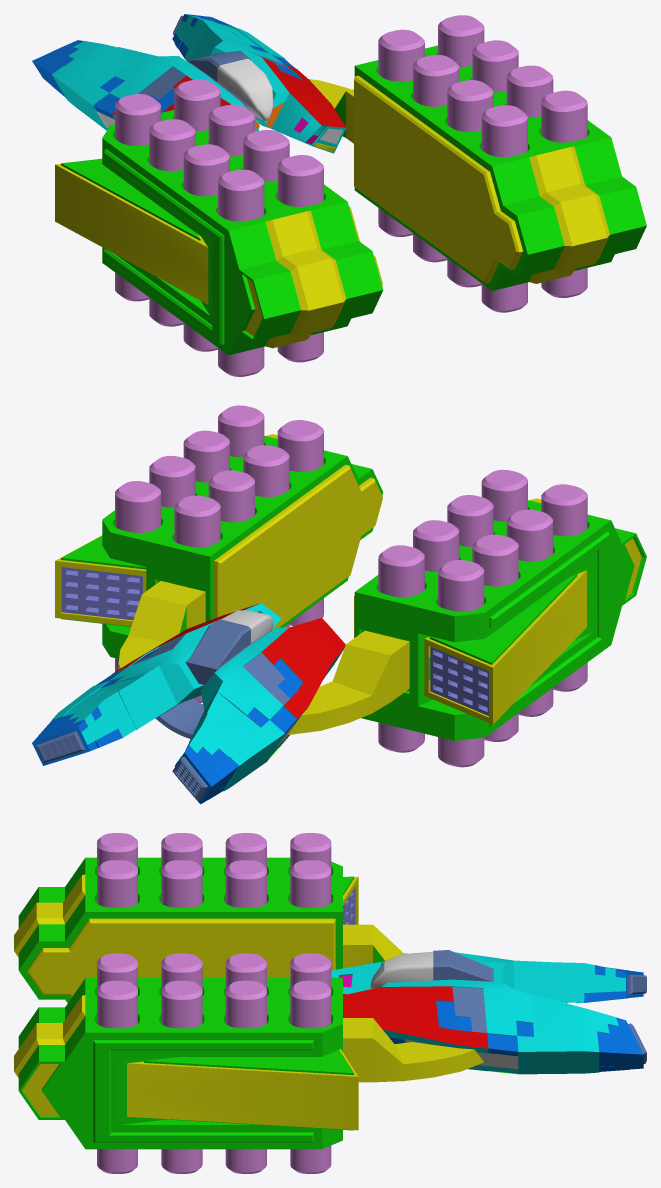
Rendered from Melee.fbx.
3 renders of one model, top to bottom at view 1: azimuth 30°, elevation 25°; view 2: azimuth 150°, elevation 25°; view 3: azimuth 270°, elevation 25°, orthographic. The views are drawn at different scales.
Parts seen in each view (by area): view 1: Cube; view 2: Cube; view 3: Cube.
Boxes of the visible parts, left/top/right/bottom form: Cube: left=32, top=14, right=646, bottom=376; Cube: left=32, top=405, right=646, bottom=804; Cube: left=14, top=833, right=646, bottom=1173.
Bounding box in the file's own units: 552 × 230 × 737.
